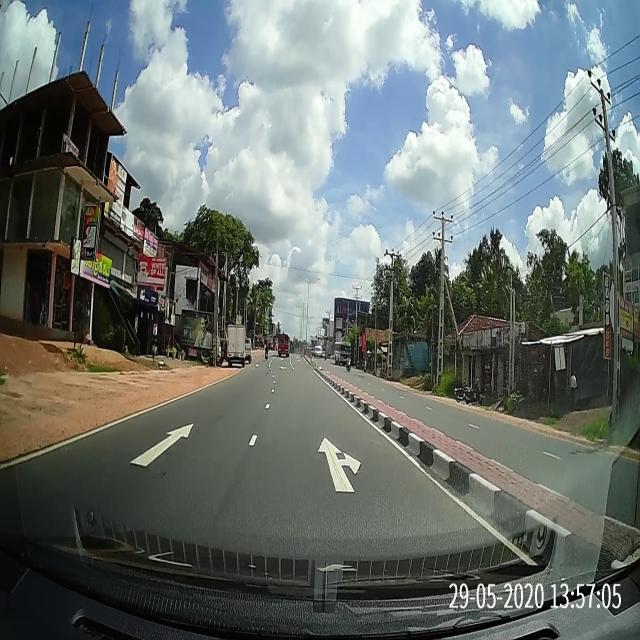forward: (55, 400, 260, 500)
forward_right: (218, 403, 476, 506)
